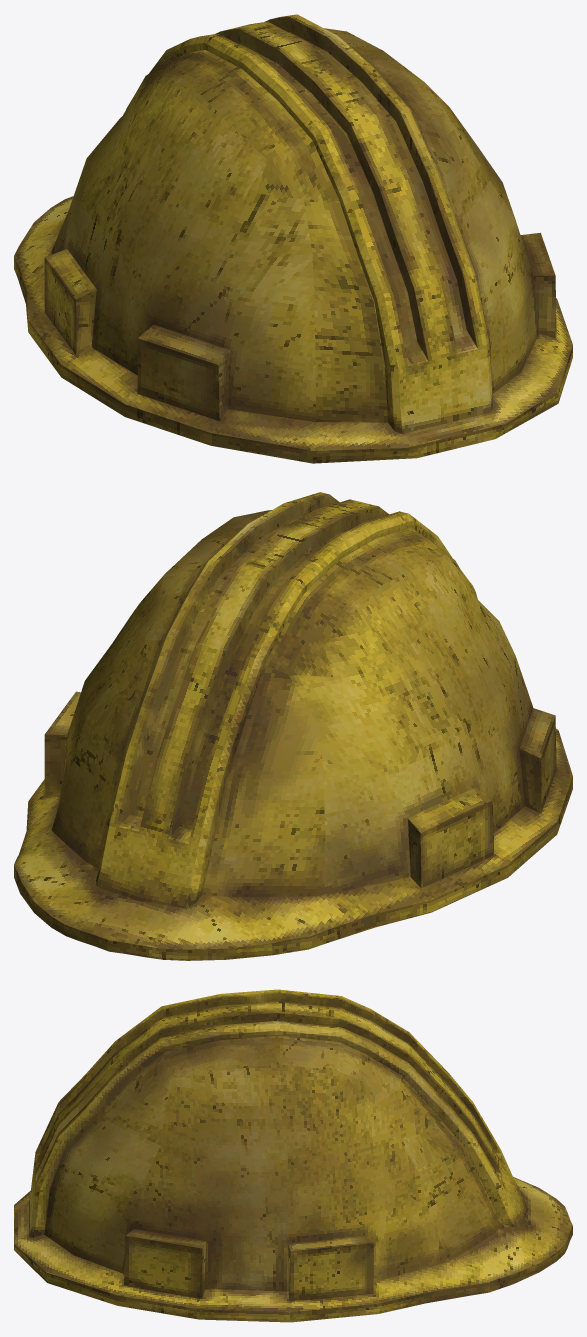
Rendered from hard_hat.glb.
The picture shows the model from 3 angles, top to bottom: view 1: azimuth 30°, elevation 25°; view 2: azimuth 150°, elevation 25°; view 3: azimuth 270°, elevation 25°; orthographic projection. The views are drawn at different scales.
Parts seen in each view (by area): view 1: Sphere; view 2: Sphere; view 3: Sphere.
Part boxes in pixels (x1,y1,x2,y2): Sphere: (14, 14, 572, 463); Sphere: (14, 492, 572, 960); Sphere: (14, 989, 572, 1322).
Size of the model in its own units: 0.5464 by 0.3306 by 0.7355.
1 material, 1 textured.
